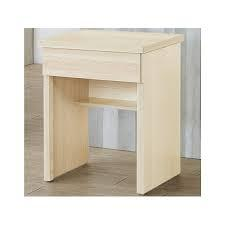desk: (30, 20, 191, 196)
